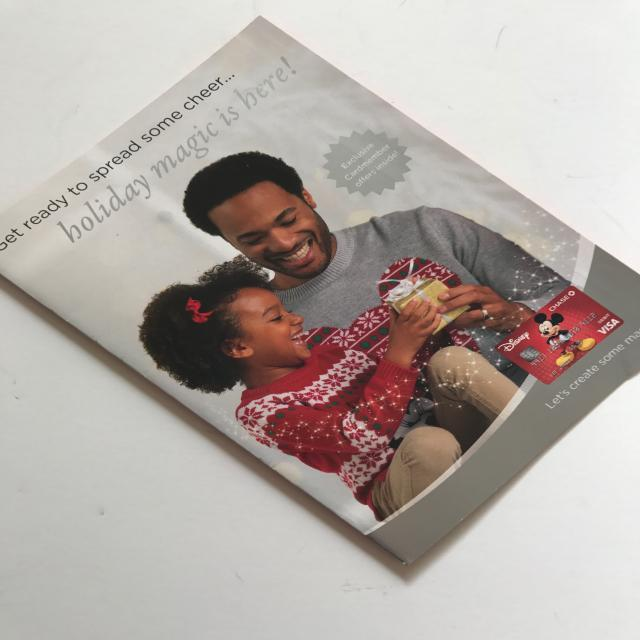paper: (1, 19, 638, 566)
